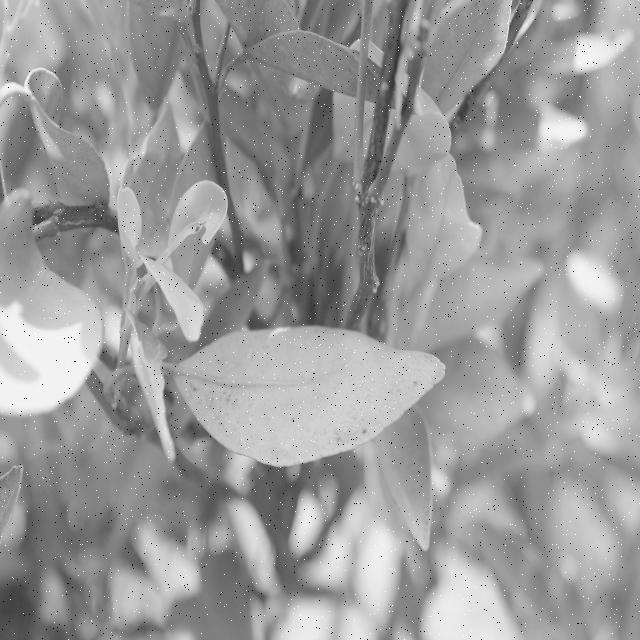blackspot: (182, 329, 443, 459)
